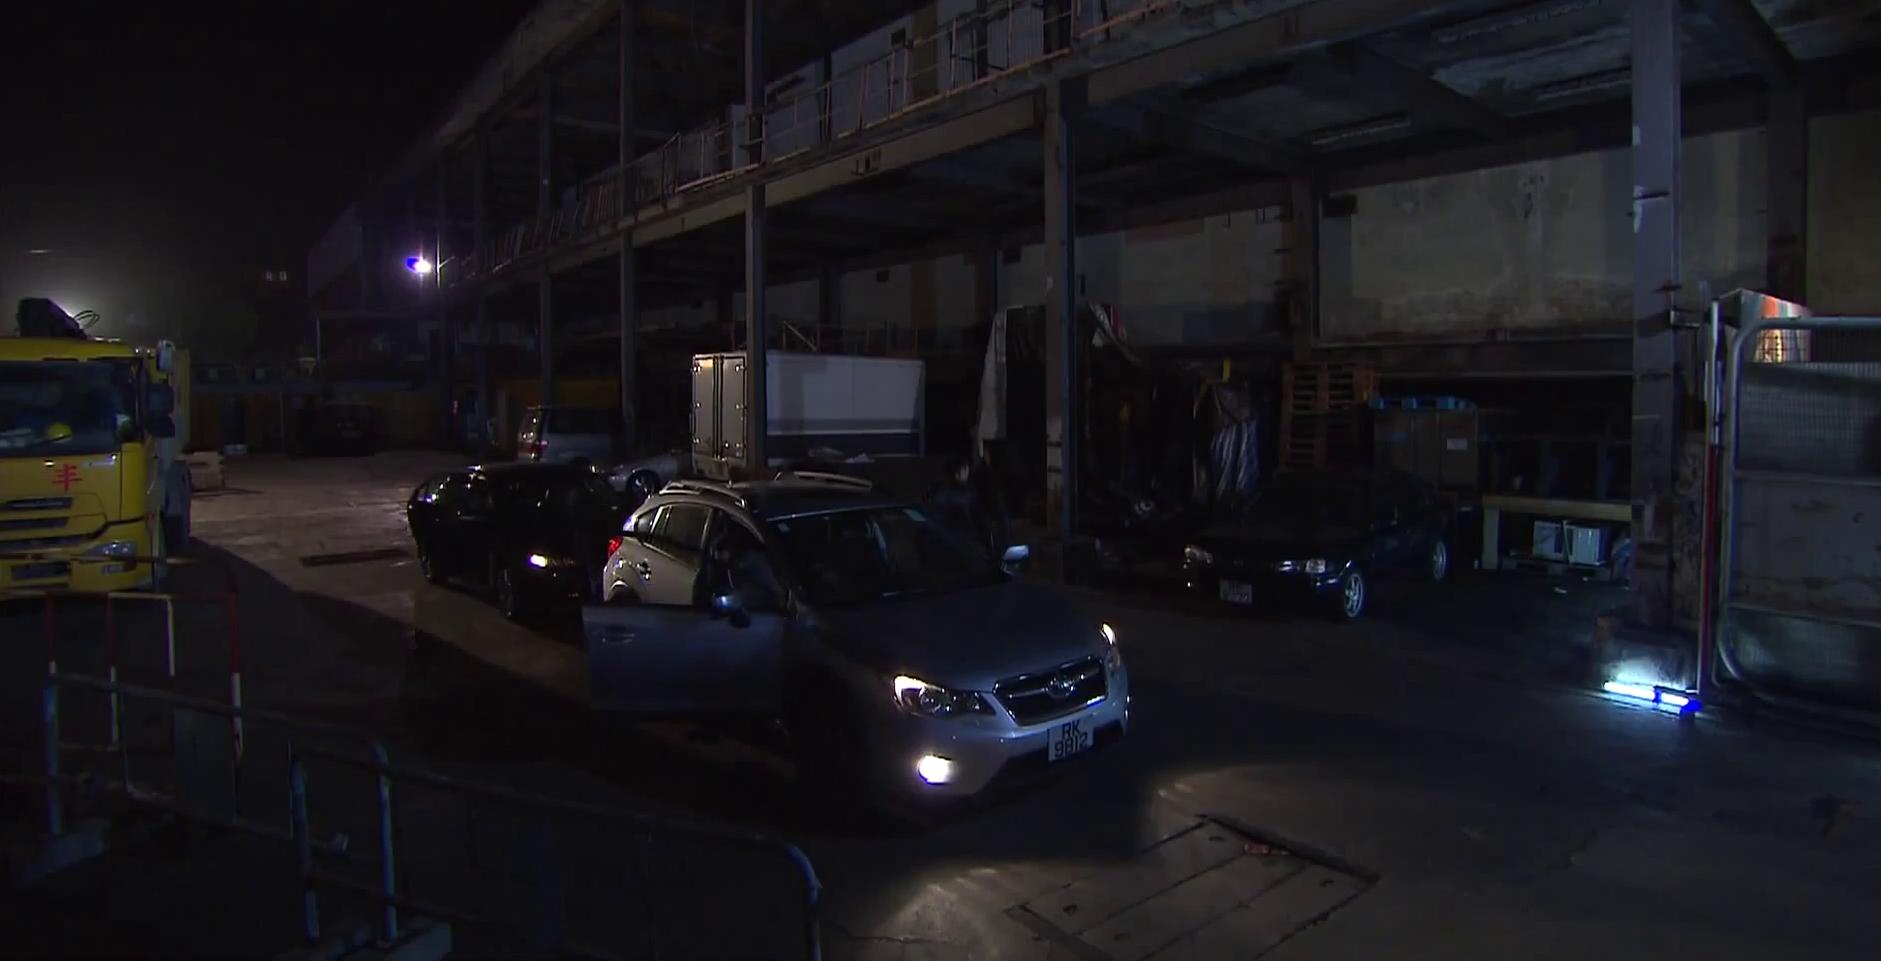car: (1171, 451, 1467, 630)
